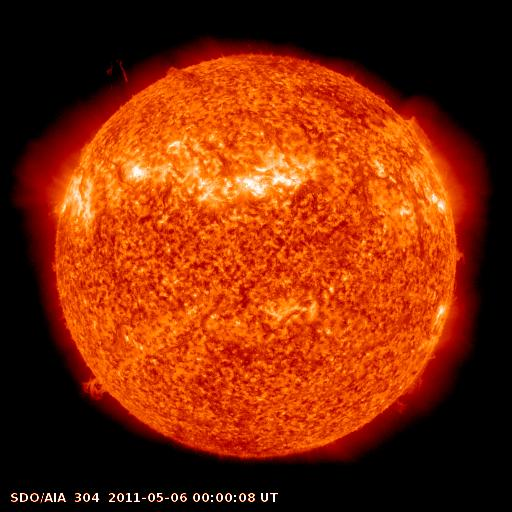prominence: (100, 52, 142, 107), (403, 108, 441, 154), (75, 370, 115, 407), (157, 52, 193, 89), (444, 239, 477, 275)
